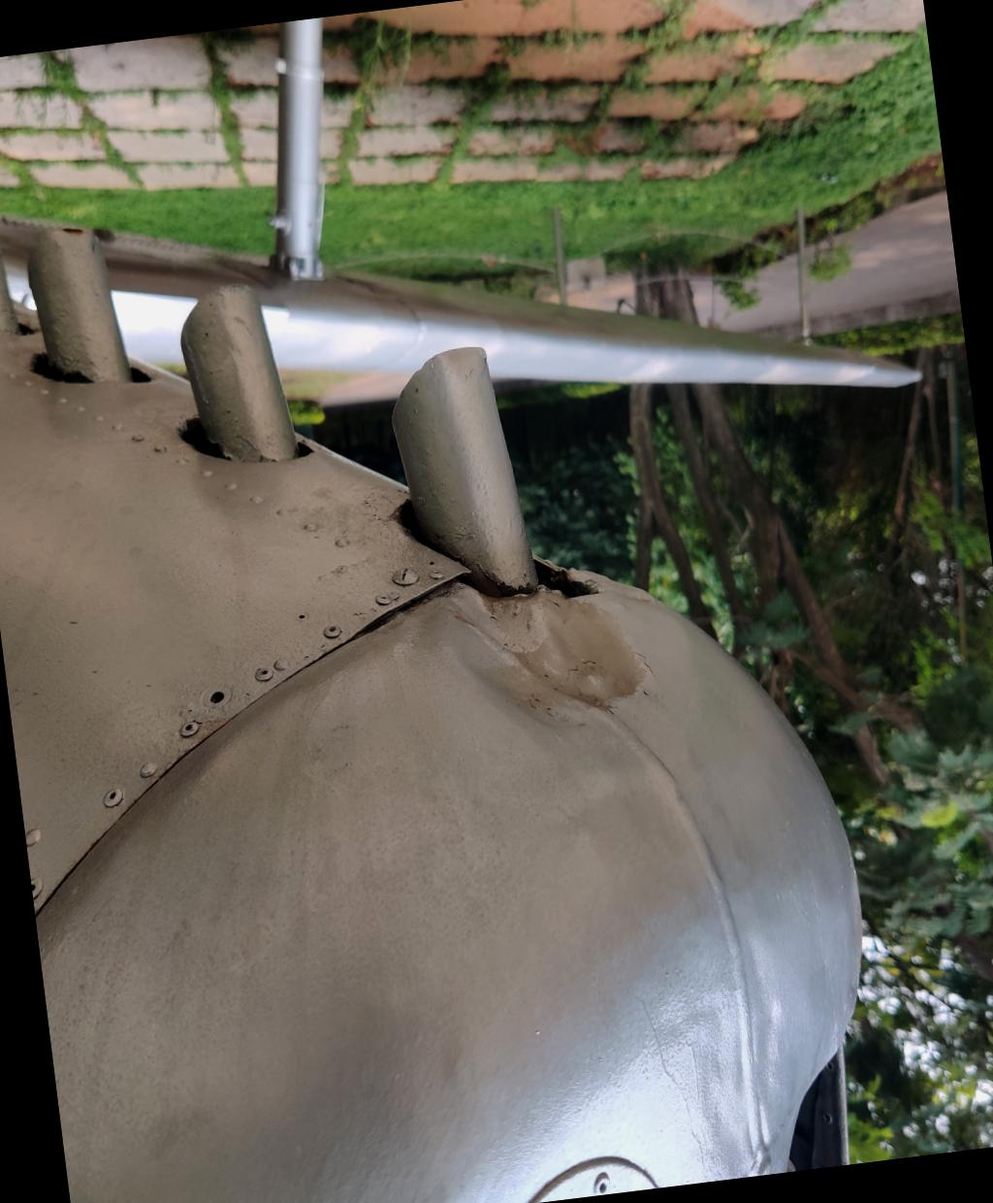dent: (434, 527, 642, 743)
